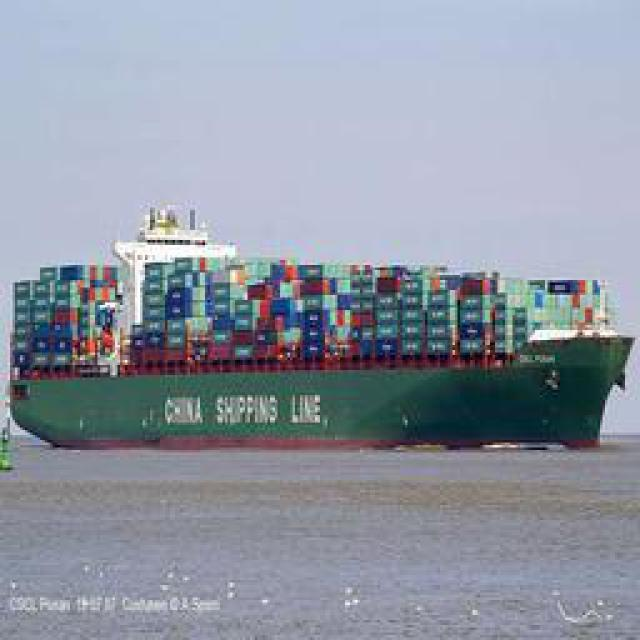Ship: (5, 191, 640, 455)
